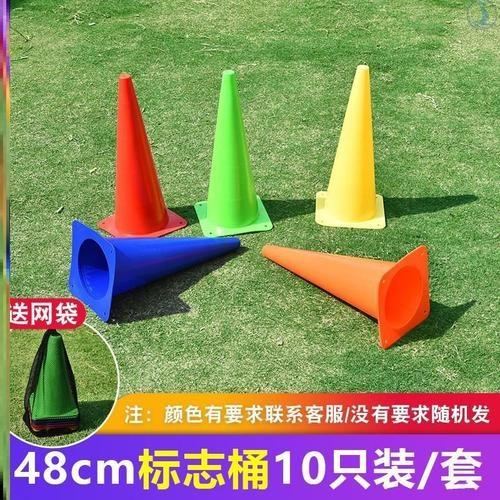cone_barrel: (259, 242, 431, 348), (94, 73, 182, 238), (309, 65, 392, 234), (71, 233, 242, 309), (193, 71, 270, 238), (19, 331, 87, 436)
